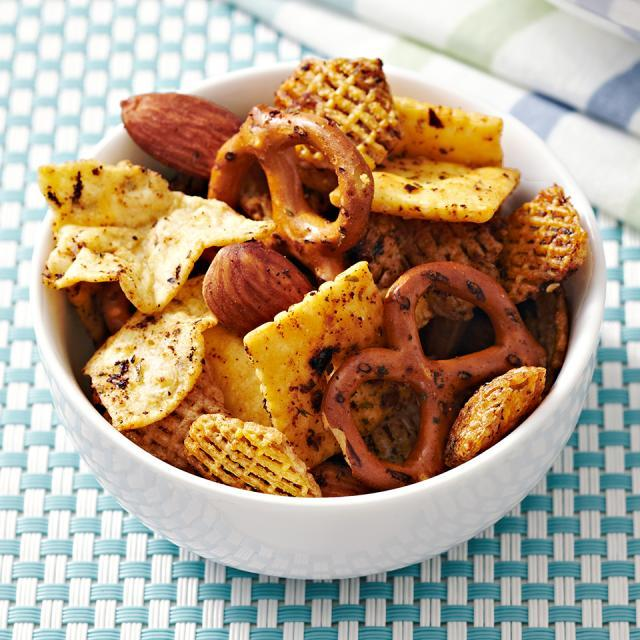Salatini: (36, 61, 576, 521)
